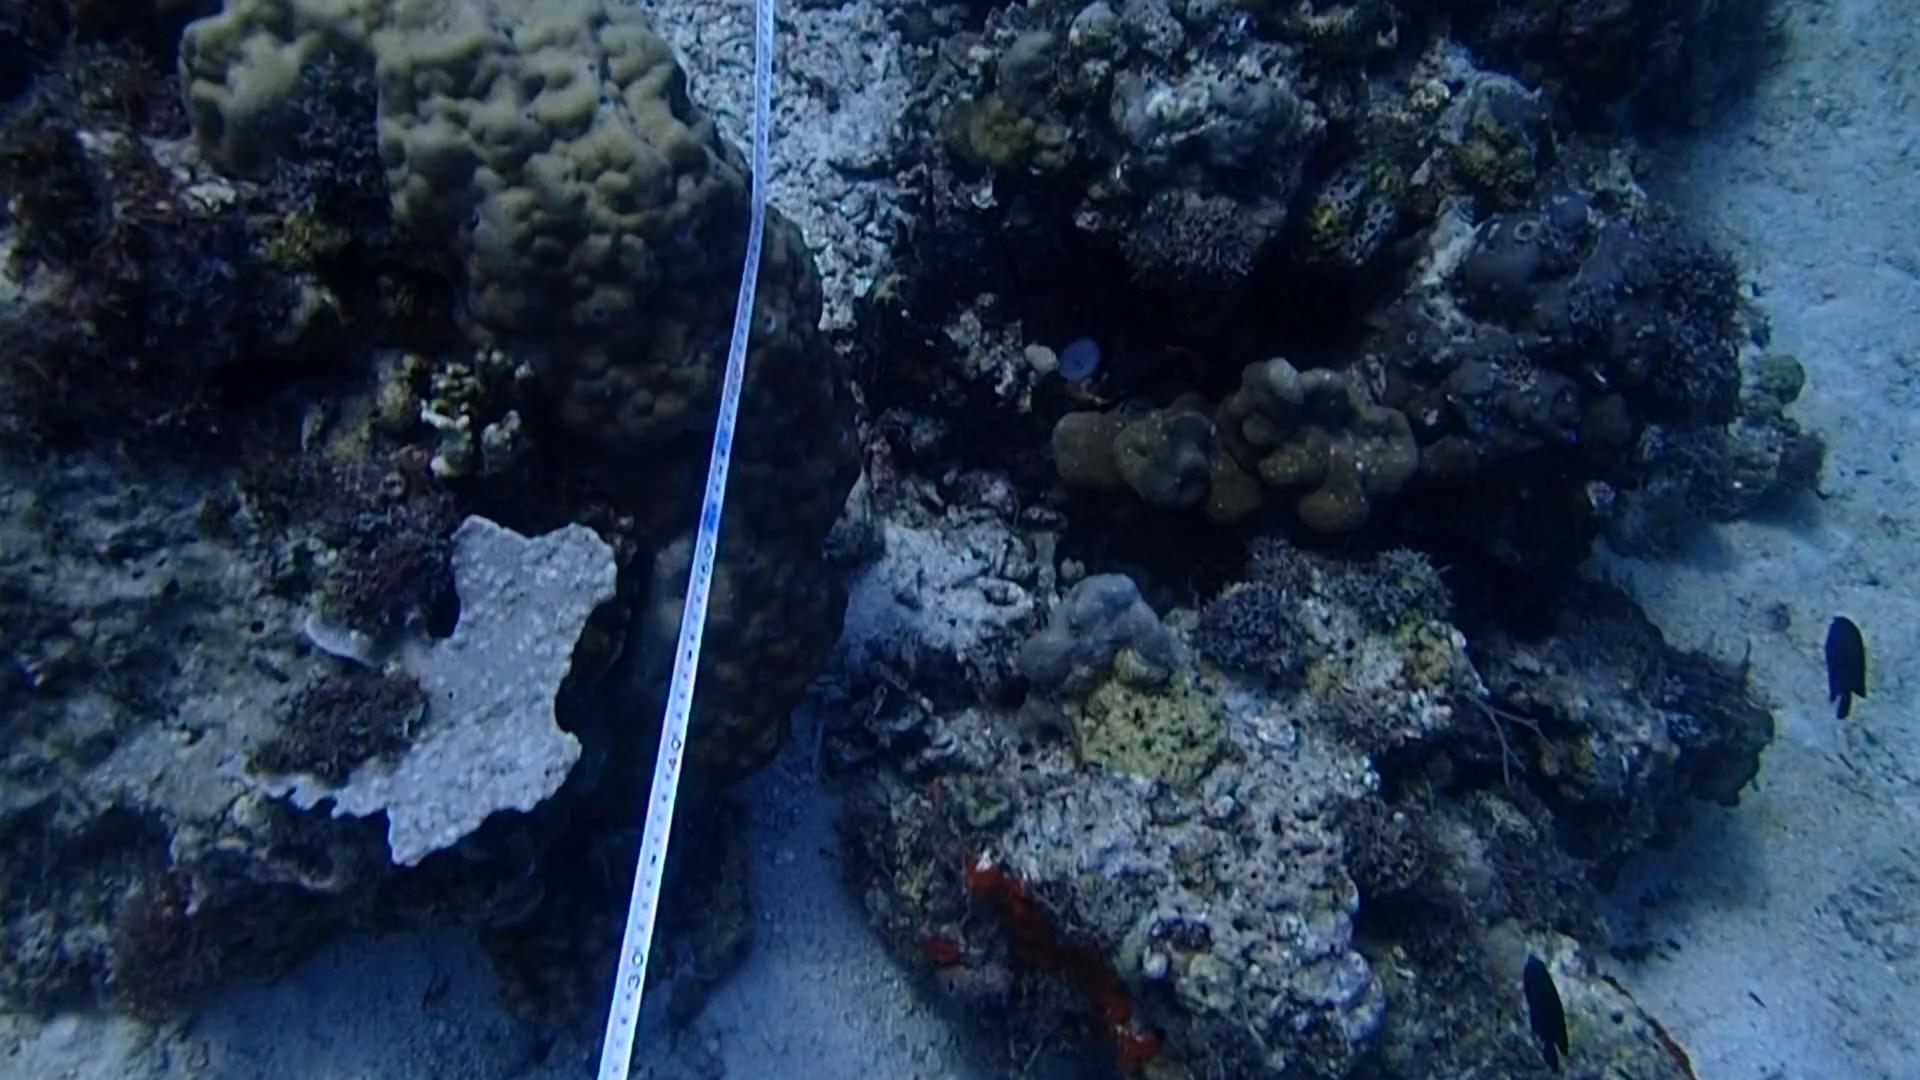Dark Fish: (1809, 597, 1880, 727), (1513, 945, 1576, 1077)
